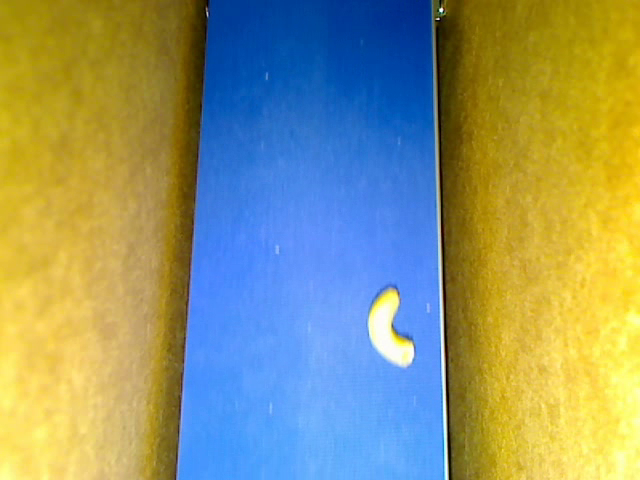elbow: (366, 287, 416, 369)
